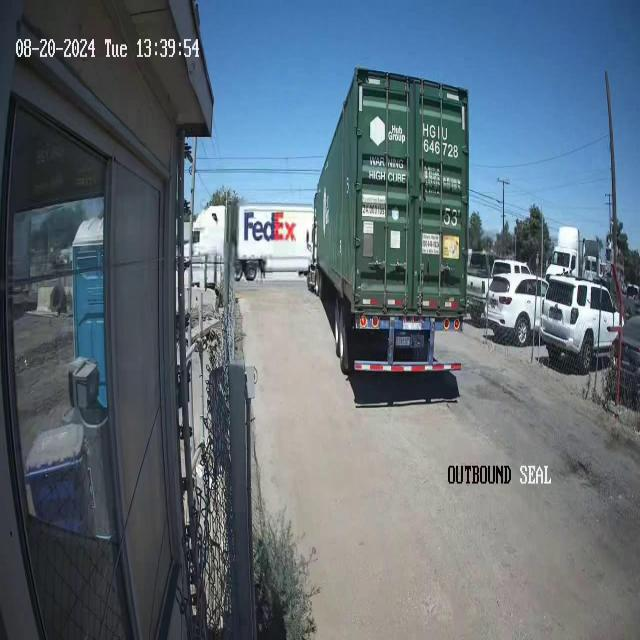TRUCK_OUT: (308, 65, 470, 377)
